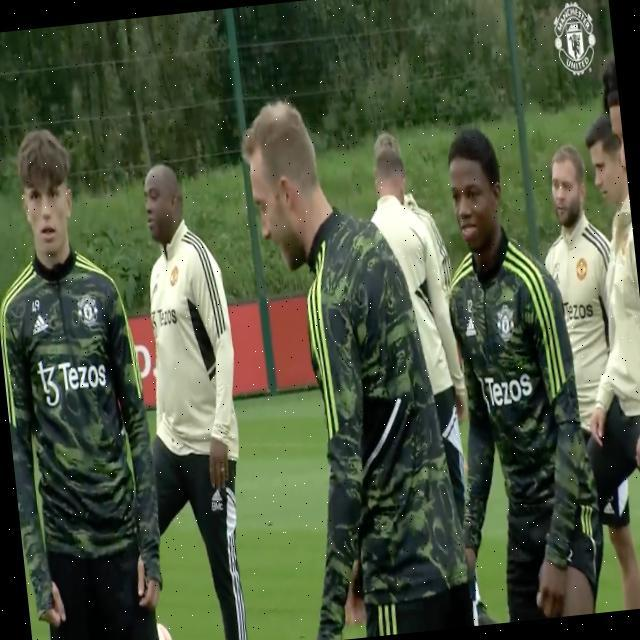Adidas: (30, 311, 50, 336), (464, 313, 478, 338)
